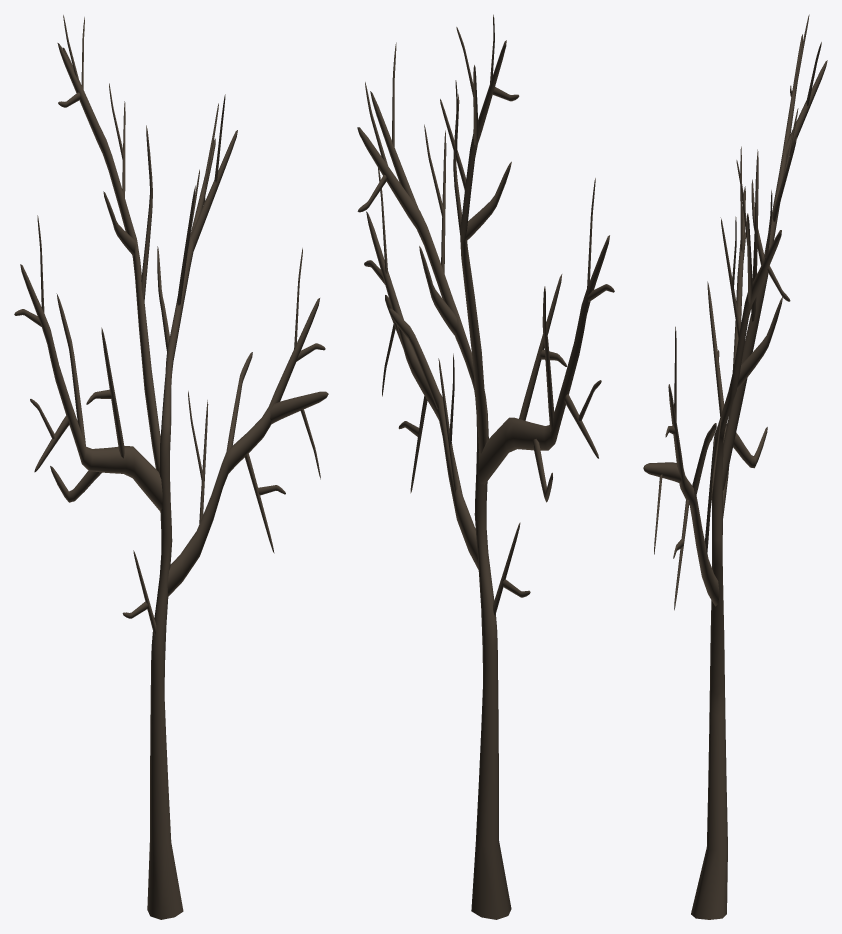
File: RedwoodSnag_A.obj
3 views of the same model, side by side, from view 1: azimuth 30°, elevation 25°; view 2: azimuth 150°, elevation 25°; view 3: azimuth 270°, elevation 25° (orthographic). The views are drawn at different scales.
Parts seen in each view (by area): view 1: RedwoodSnag_A; view 2: RedwoodSnag_A; view 3: RedwoodSnag_A.
Boxes of the visible parts, <box> form: RedwoodSnag_A: <box>14,15,328,919</box>; RedwoodSnag_A: <box>357,14,614,919</box>; RedwoodSnag_A: <box>643,14,827,919</box>.
Bounding box in the file's own units: 0.3244 × 1 × 0.1907.
